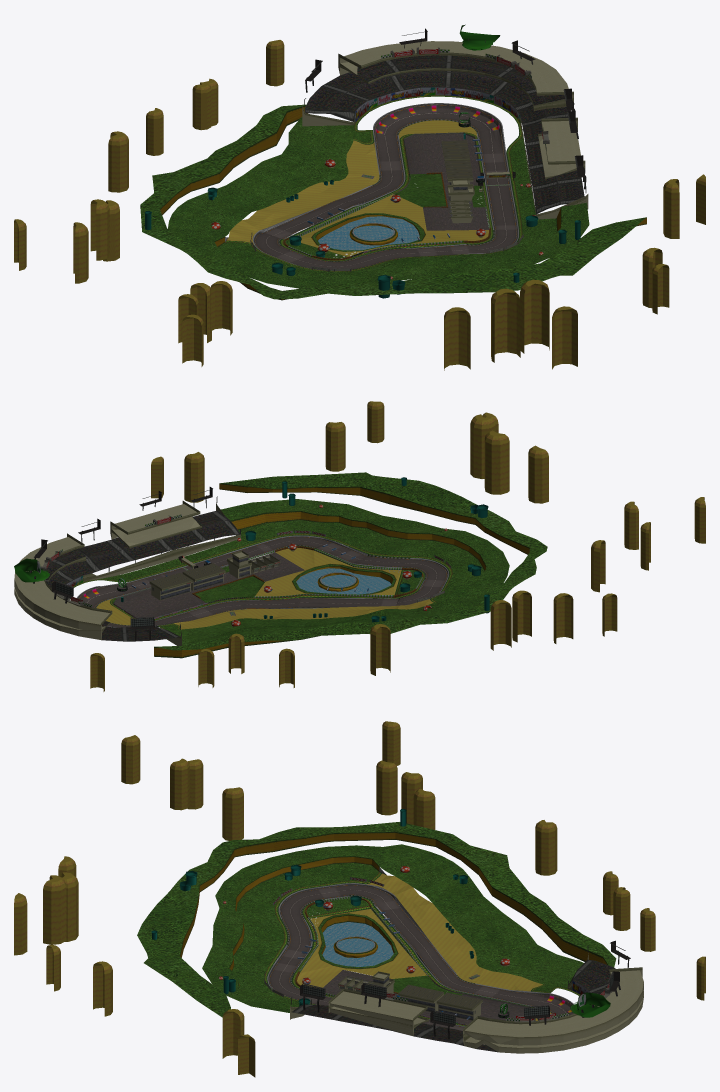
Rendered from mk_luigi_circuit_decals.glb.
The picture shows the model from 3 angles, top to bottom: view 1: azimuth 30°, elevation 25°; view 2: azimuth 150°, elevation 25°; view 3: azimuth 270°, elevation 25°; orthographic projection. The views are drawn at different scales.
Visible parts, largest first — view 1: a_kusa_soto_2_back, yama_m_21_back, a_MainRoad_m_7_back, a_bc_kankyakuseat_m_12_back, tatemono_m_6_back, a_SAND_m_5_back, block3_m_4_back, a_kusa_waki_m_3_back, a_bc_enseki_m_1_back, lake_m_20_back, kinoko_m_14_back, popkanban_m_10_back (+1 smaller); view 2: a_kusa_soto_2_back, yama_m_21_back, tatemono_m_6_back, a_MainRoad_m_7_back, block3_m_4_back, a_bc_kankyakuseat_m_12_back, a_SAND_m_5_back, a_bc_enseki_m_1_back, a_kusa_waki_m_3_back, lake_m_20_back, kinoko_m_14_back, lugcap_m_18_back; view 3: a_kusa_soto_2_back, yama_m_21_back, tatemono_m_6_back, a_MainRoad_m_7_back, block3_m_4_back, a_SAND_m_5_back, a_bc_kankyakuseat_m_12_back, lake_m_20_back, a_bc_enseki_m_1_back, a_kusa_waki_m_3_back, kinoko_m_14_back, lugcap_m_18_back.
Part boxes in pixels (left/top/right/bottom): a_kusa_soto_2_back: left=140, top=104, right=646, bottom=299; yama_m_21_back: left=14, top=40, right=705, bottom=370; a_MainRoad_m_7_back: left=254, top=103, right=517, bottom=270; a_bc_kankyakuseat_m_12_back: left=304, top=55, right=584, bottom=213; tatemono_m_6_back: left=250, top=28, right=588, bottom=271; a_SAND_m_5_back: left=226, top=120, right=488, bottom=256; block3_m_4_back: left=160, top=105, right=646, bottom=300; a_kusa_waki_m_3_back: left=225, top=95, right=522, bottom=271; a_bc_enseki_m_1_back: left=225, top=103, right=518, bottom=270; lake_m_20_back: left=318, top=216, right=419, bottom=250; kinoko_m_14_back: left=144, top=133, right=580, bottom=298; popkanban_m_10_back: left=307, top=87, right=520, bottom=252; a_kusa_soto_2_back: left=97, top=472, right=547, bottom=650; yama_m_21_back: left=90, top=401, right=705, bottom=691; tatemono_m_6_back: left=14, top=487, right=447, bottom=645; a_MainRoad_m_7_back: left=78, top=536, right=447, bottom=627; block3_m_4_back: left=154, top=483, right=529, bottom=658; a_bc_kankyakuseat_m_12_back: left=45, top=510, right=240, bottom=641; a_SAND_m_5_back: left=96, top=547, right=433, bottom=629; a_bc_enseki_m_1_back: left=77, top=535, right=448, bottom=627; a_kusa_waki_m_3_back: left=73, top=533, right=452, bottom=629; lake_m_20_back: left=296, top=568, right=391, bottom=594; kinoko_m_14_back: left=121, top=477, right=489, bottom=626; lugcap_m_18_back: left=14, top=558, right=49, bottom=582; a_kusa_soto_2_back: left=137, top=822, right=616, bottom=1017; yama_m_21_back: left=14, top=721, right=705, bottom=1077; tatemono_m_6_back: left=264, top=879, right=643, bottom=1053; a_MainRoad_m_7_back: left=268, top=884, right=573, bottom=1030; block3_m_4_back: left=180, top=832, right=607, bottom=993; a_SAND_m_5_back: left=297, top=873, right=551, bottom=1020; a_bc_kankyakuseat_m_12_back: left=291, top=959, right=615, bottom=1052; lake_m_20_back: left=322, top=922, right=393, bottom=966; a_bc_enseki_m_1_back: left=267, top=867, right=573, bottom=1026; a_kusa_waki_m_3_back: left=264, top=872, right=591, bottom=1026; kinoko_m_14_back: left=151, top=809, right=509, bottom=1006; lugcap_m_18_back: left=570, top=992, right=610, bottom=1017.
Bounding box in the file's own units: 773 × 110 × 823.
145 materials, 145 textured.
